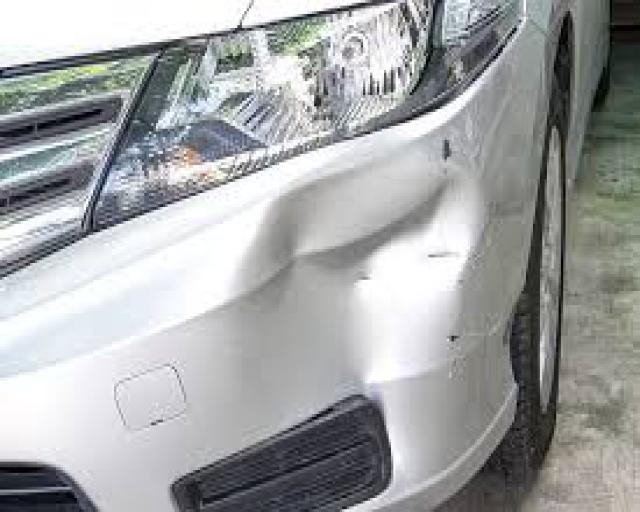dent: (228, 130, 511, 395)
